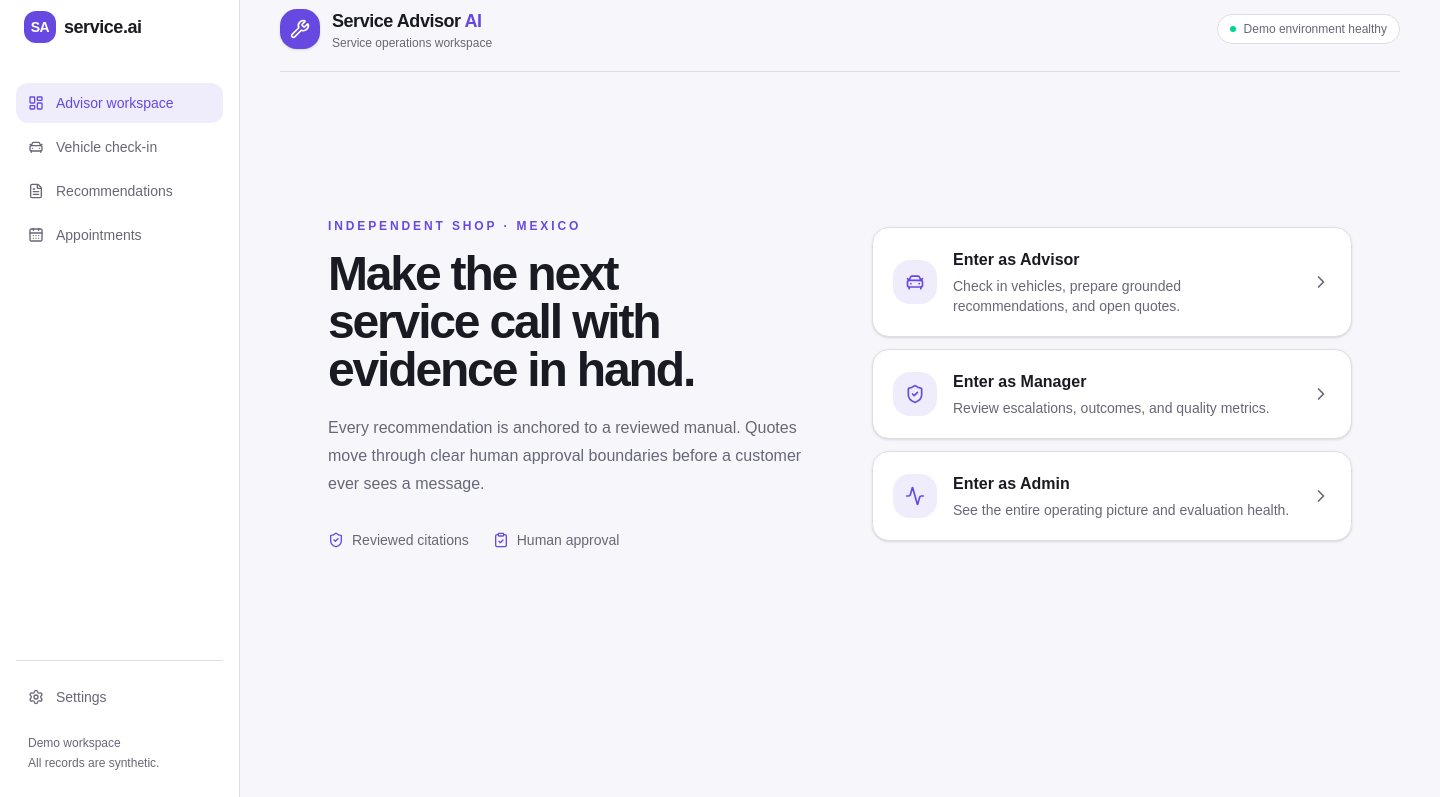
Test: renders labeled check-in controls for an Advisor workspace
What coordinates should you click on to do the following:
click the button "Enter as Advisor"
I would click on:
 (1112, 282)
Its box is [872,226,1352,336].
(page scrolled)
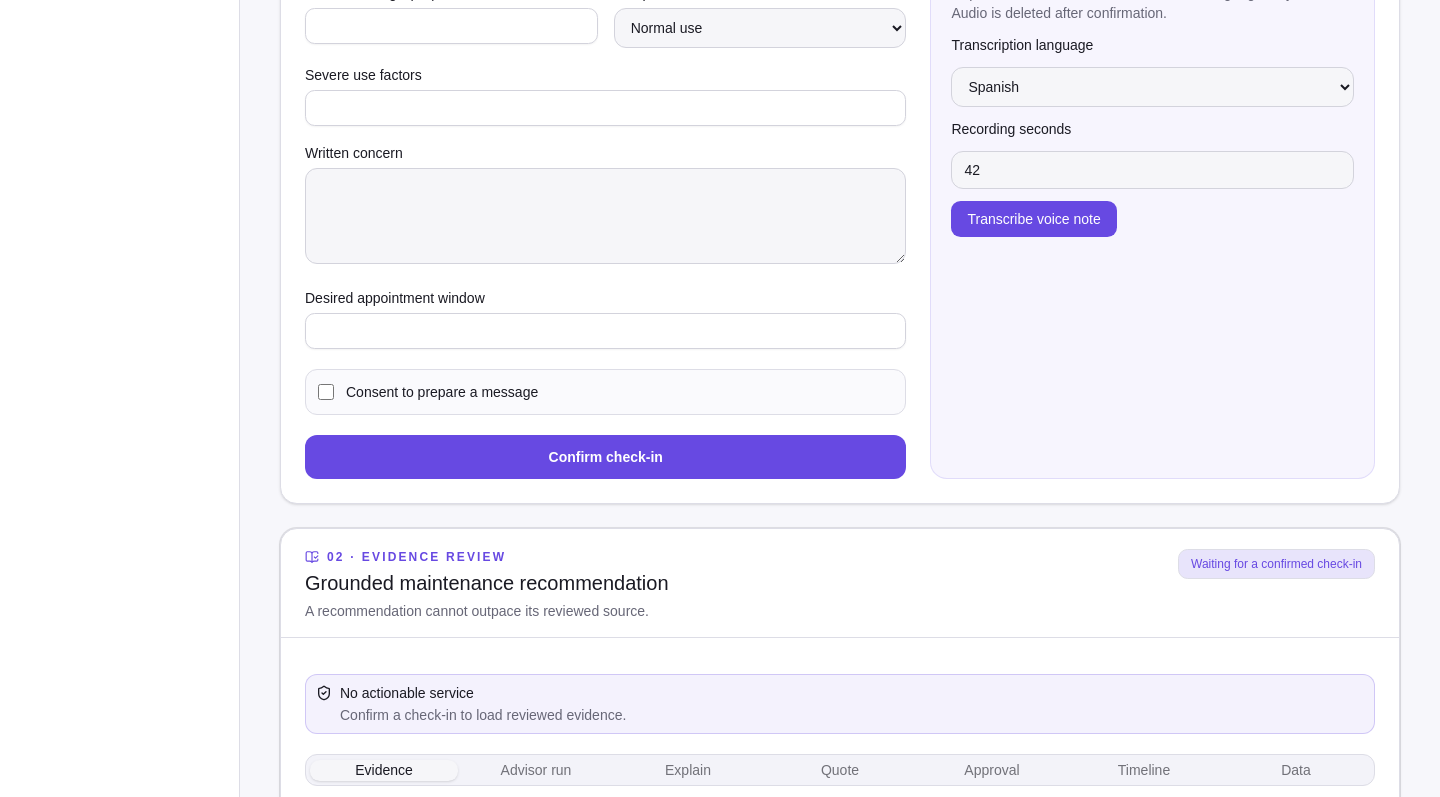
expect the number field labelled "Current mileage (km)" is shown: met, box [305,8,598,44]
expect the field labelled "Severe use factors" is shown: met, box [305,90,906,126]
expect the checkbox labelled "Consent to prepare a message" is shown: met, box [318,384,334,400]
